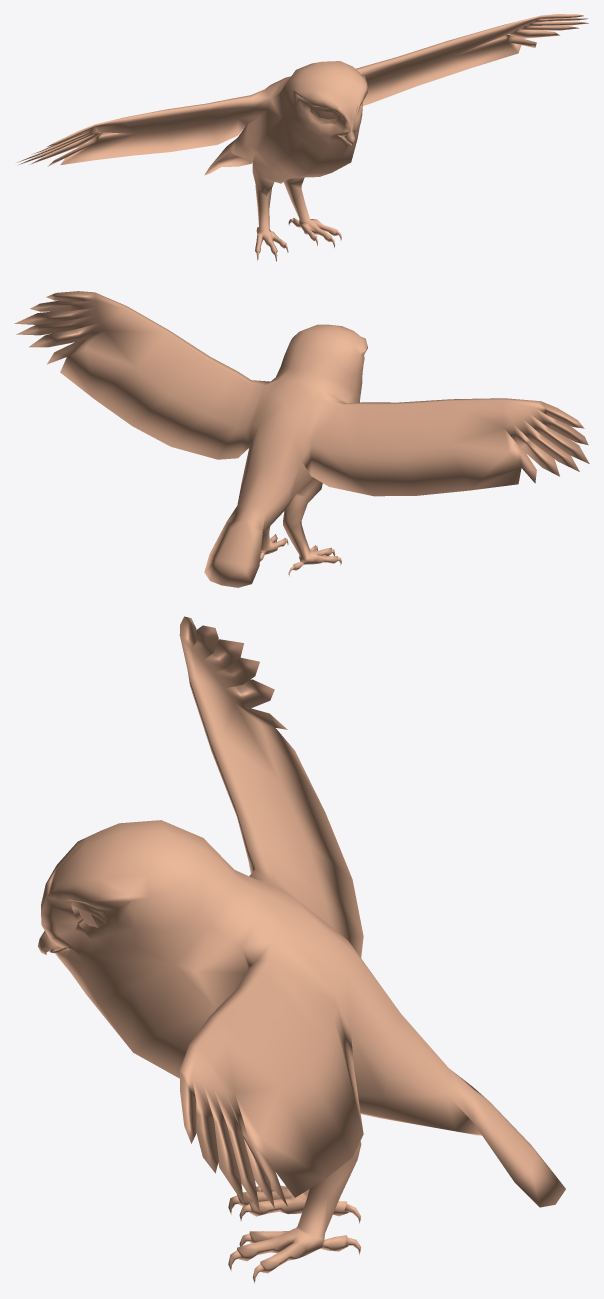
File: owl.fbx
The picture shows the model from 3 angles, top to bottom: view 1: azimuth 30°, elevation 25°; view 2: azimuth 150°, elevation 25°; view 3: azimuth 270°, elevation 25°; orthographic projection. The views are drawn at different scales.
Visible parts, largest first — view 1: Cube.010; view 2: Cube.010; view 3: Cube.010.
Boxes of the visible parts, x1=… form: Cube.010: x1=16, y1=14, x2=588, y2=261; Cube.010: x1=14, y1=291, x2=589, y2=587; Cube.010: x1=38, y1=616, x2=565, y2=1283.
Bounding box in the file's own units: 167 × 57.24 × 66.43.
